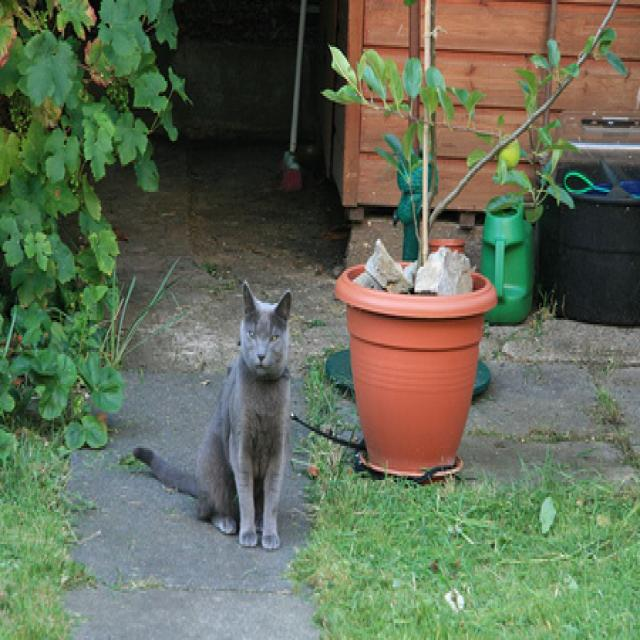Russian Blue: (132, 278, 296, 554)
